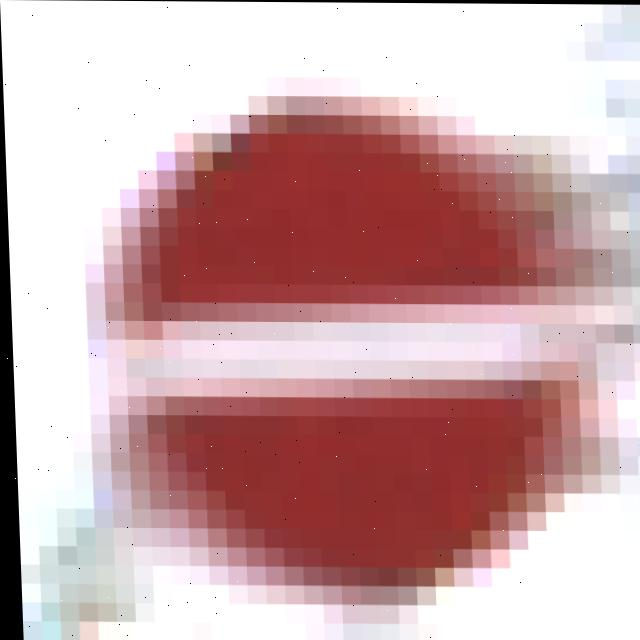road_rough: (79, 61, 636, 603)
